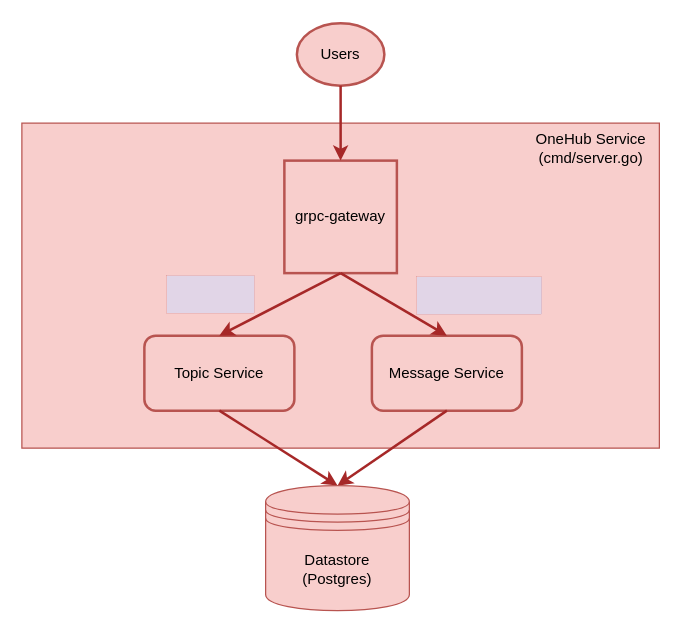
Some shapes in this 681 by 633 pixel diagram are drawn without their labels. Each missing label, with the box of its shape:
/v1/messages: (416, 276, 541, 314)
/v1/topics: (166, 275, 254, 312)
